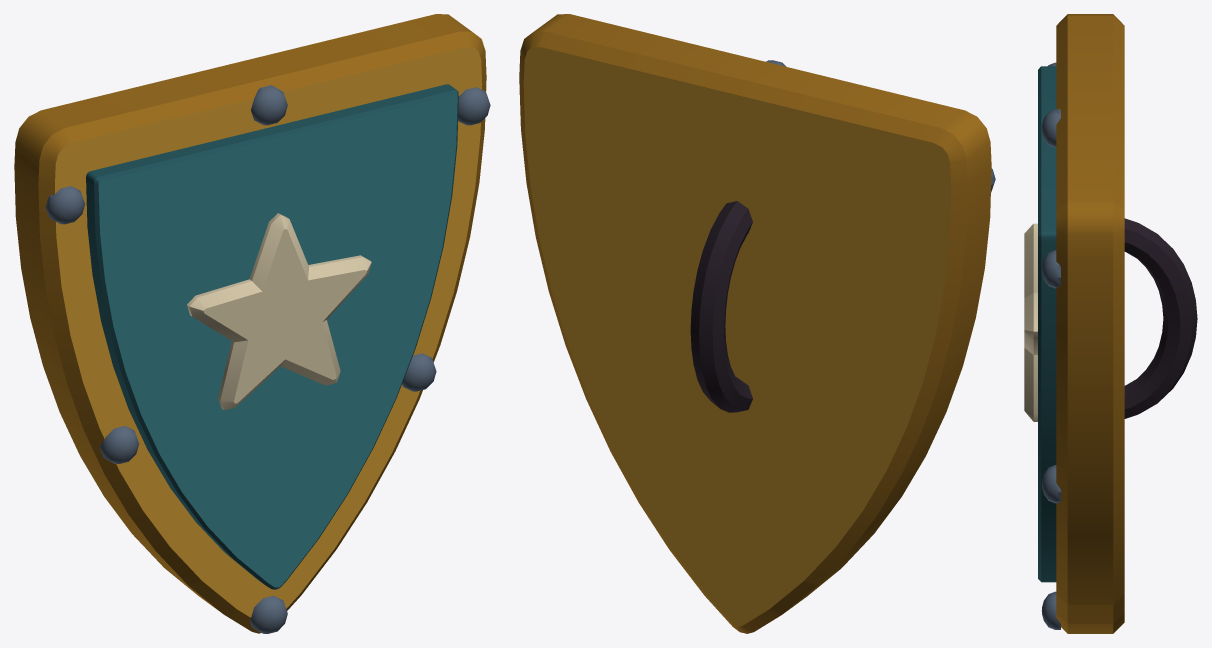
The model's file is HeaterShield_01.glb.
The picture shows the model from 3 angles, left to right: view 1: azimuth 30°, elevation 25°; view 2: azimuth 150°, elevation 25°; view 3: azimuth 270°, elevation 25°; orthographic projection. The views are drawn at different scales.
Parts seen in each view (by area): view 1: HeaterShield_01; view 2: HeaterShield_01; view 3: HeaterShield_01.
Boxes of the visible parts, x1=… form: HeaterShield_01: x1=14, y1=14, x2=490, y2=633; HeaterShield_01: x1=519, y1=14, x2=995, y2=633; HeaterShield_01: x1=1024, y1=14, x2=1197, y2=633.
Bounding box in the file's own units: 2.15 × 2.54 × 0.76.
